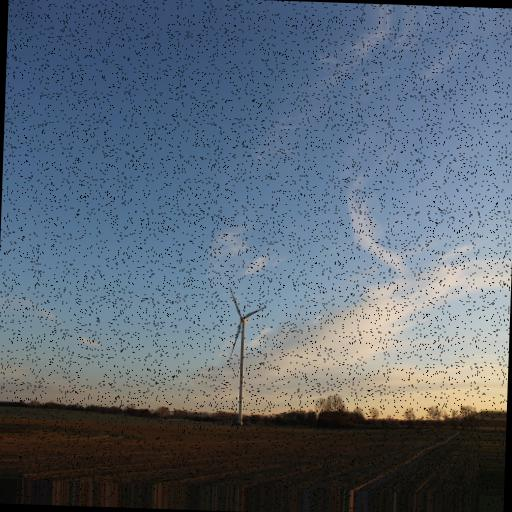wind turbine: (226, 287, 266, 426)
